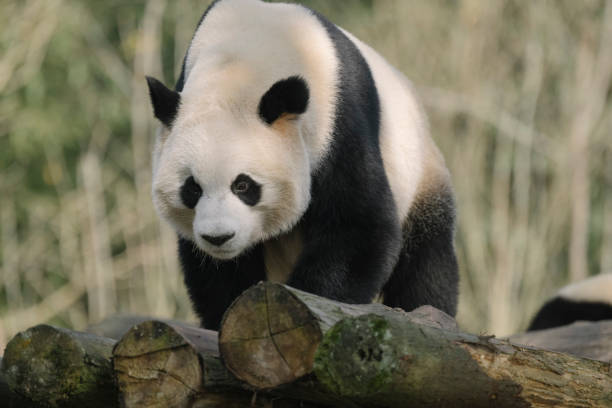panda: (121, 62, 355, 267)
